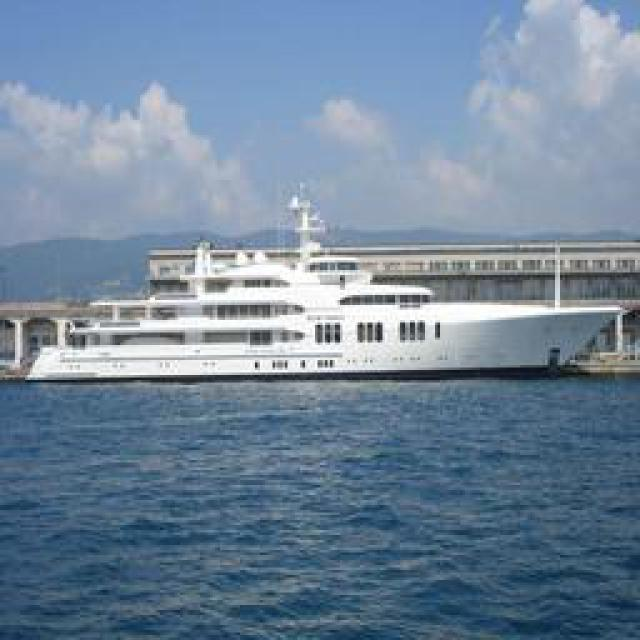Ship: (12, 219, 635, 392)
